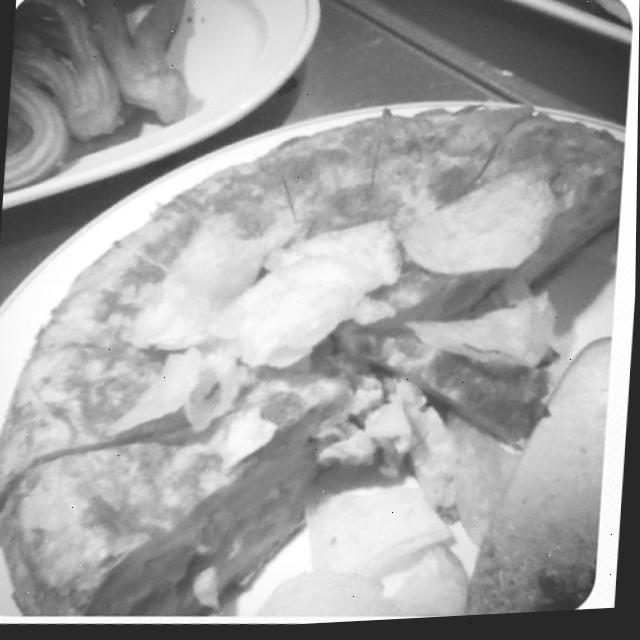面包点心: (0, 80, 627, 619)
